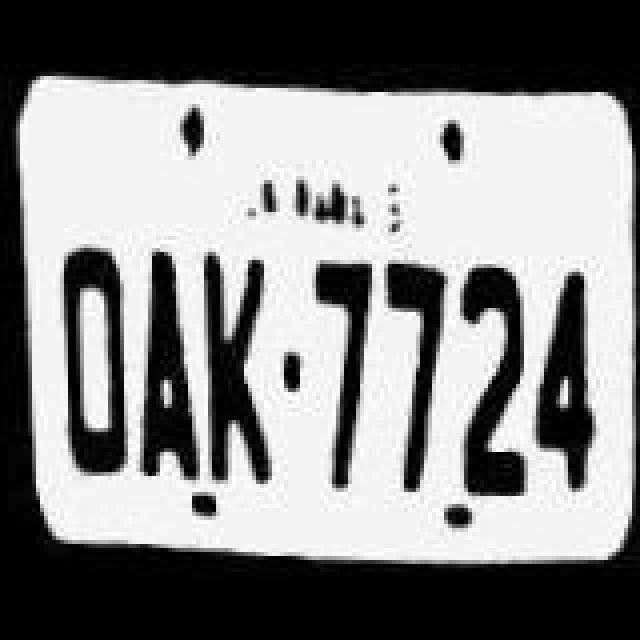2: (448, 242, 532, 506)
4: (524, 264, 608, 504)
7: (378, 248, 458, 512), (308, 250, 384, 510)
A: (126, 224, 206, 492)
K: (198, 222, 278, 486)
O: (44, 226, 136, 494)
